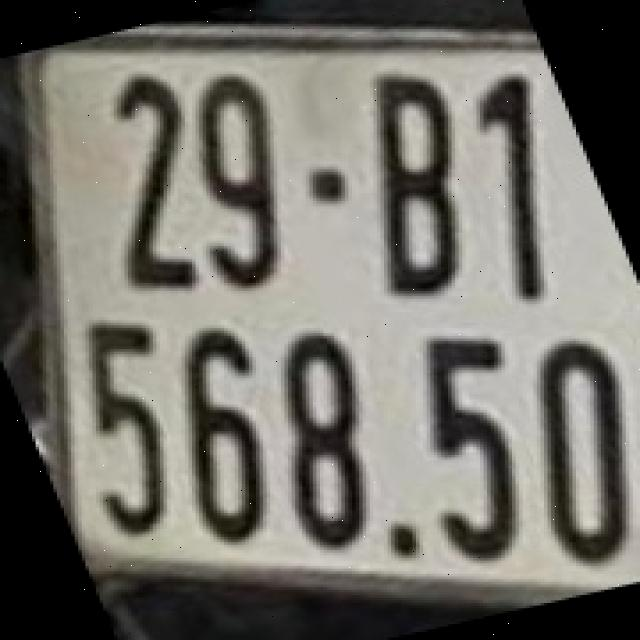0: (540, 341, 630, 563)
1: (475, 76, 553, 302)
2: (114, 77, 195, 291)
5: (427, 338, 519, 560), (87, 325, 169, 537)
6: (185, 328, 263, 550)
8: (286, 332, 368, 557)
9: (201, 75, 279, 292)
B: (372, 77, 461, 299)
